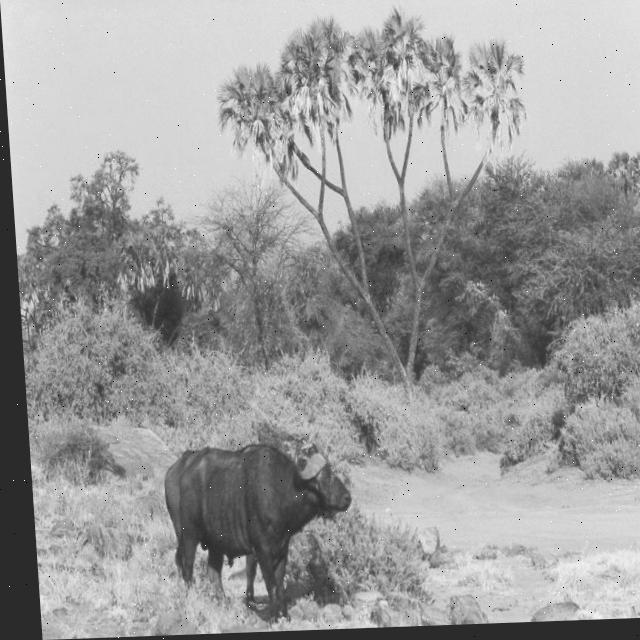Buffalo: (162, 442, 360, 625)
